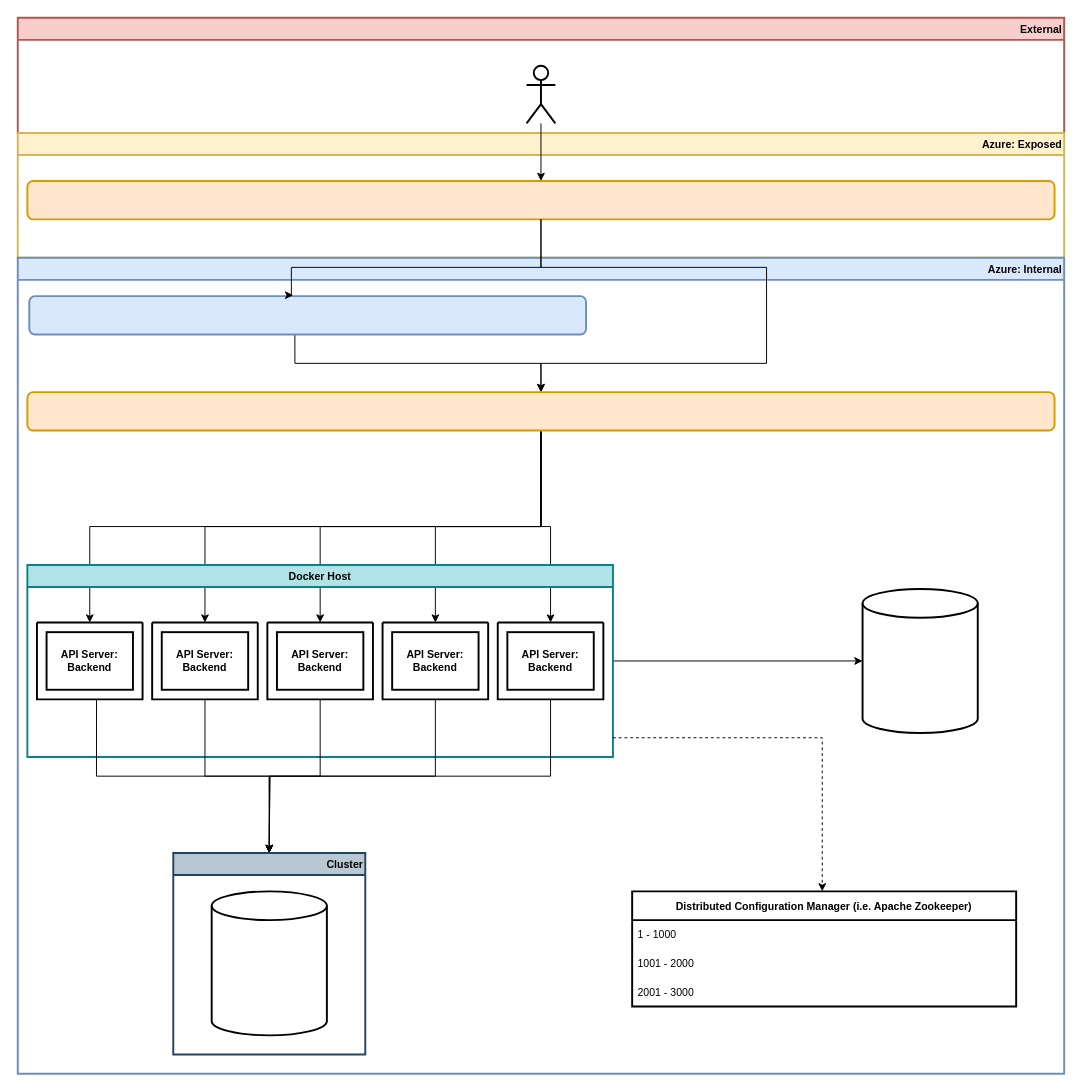
Some shapes in this 1081 by 1091 pixel diagram are drawn without their labels. Here are the shapes that lost their labels. From the top down, the centre of each, then its label:
[540,94]: User
[540,200]: Azure App Gateway
[307,315]: App Server: Frontend
[540,411]: Load Balancer
[919,660]: Cache Server
[268,963]: Azure: SQL DB
